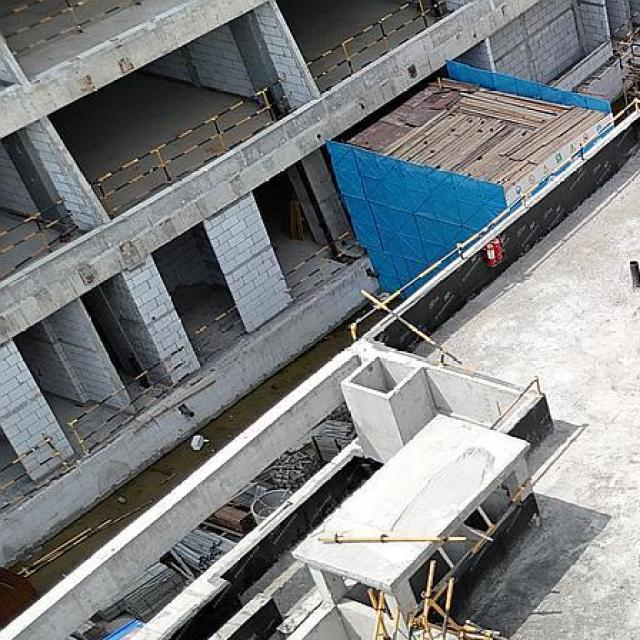Guardrail: (348, 95, 640, 340), (90, 79, 297, 220), (305, 0, 455, 94), (66, 344, 191, 456), (432, 477, 532, 602), (359, 281, 464, 366), (0, 0, 139, 57), (0, 198, 79, 286), (282, 230, 364, 303), (0, 437, 76, 512), (191, 305, 246, 362), (488, 375, 542, 431)
